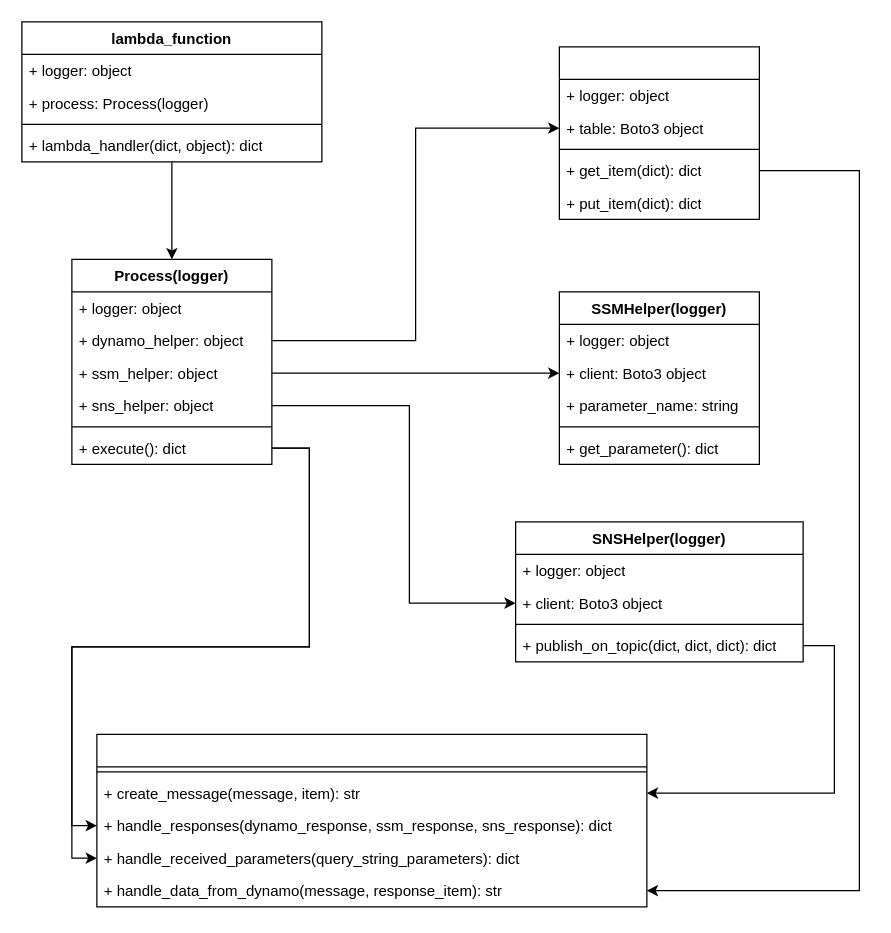
Some shapes in this 891 by 933 pixel diagram are drawn without their labels. Here are the shapes that lost their labels. From the top down, the box of each, then its label:
(558, 46, 759, 219): DynamoHelper(logger)
(96, 733, 647, 907): util
